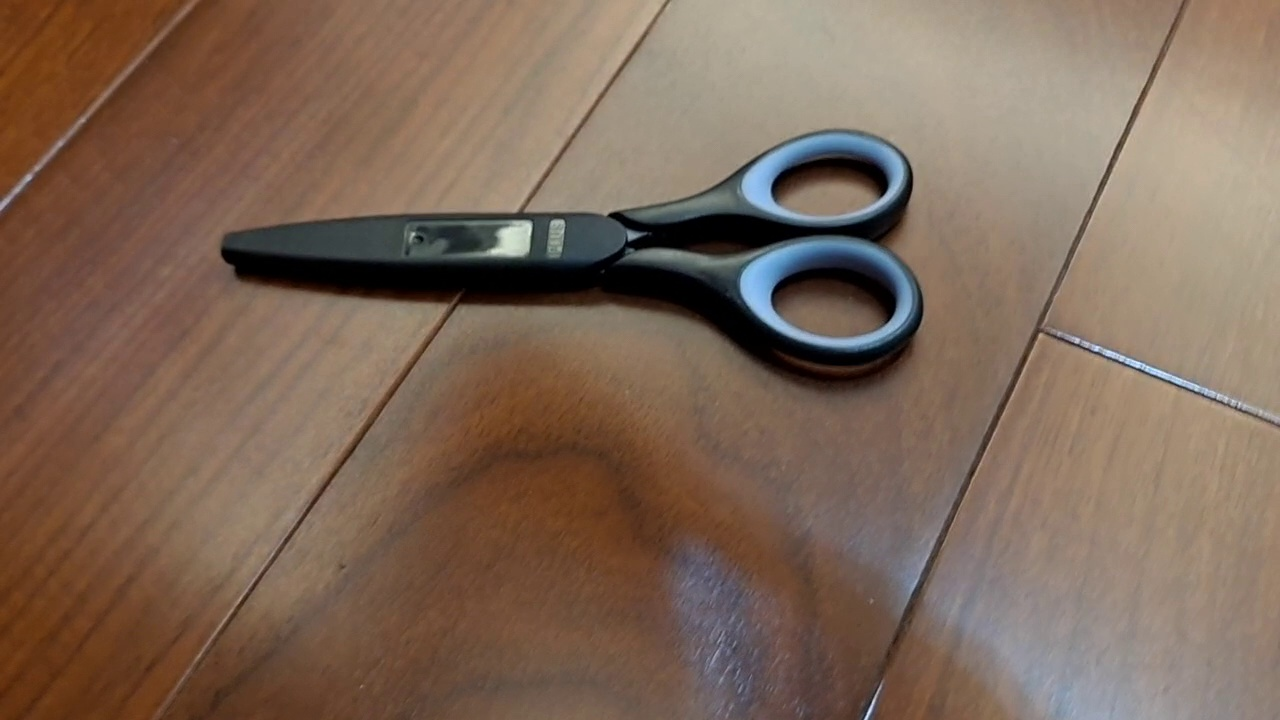scissors: (219, 125, 925, 370)
